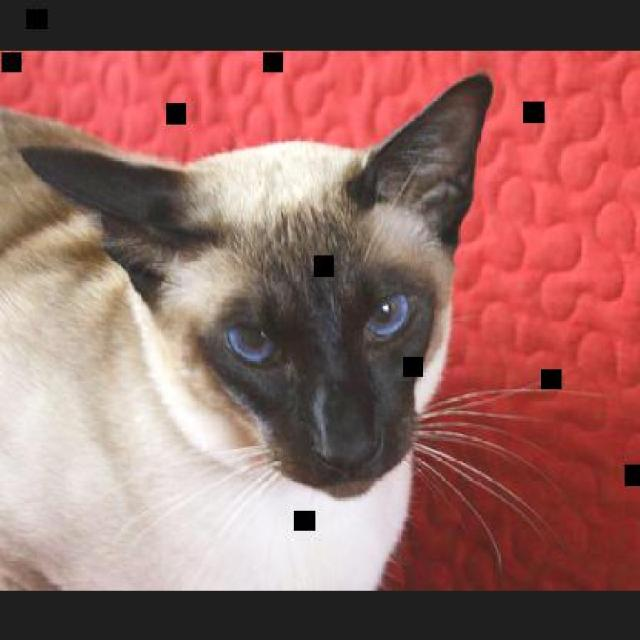unauthorized: (0, 69, 566, 591)
